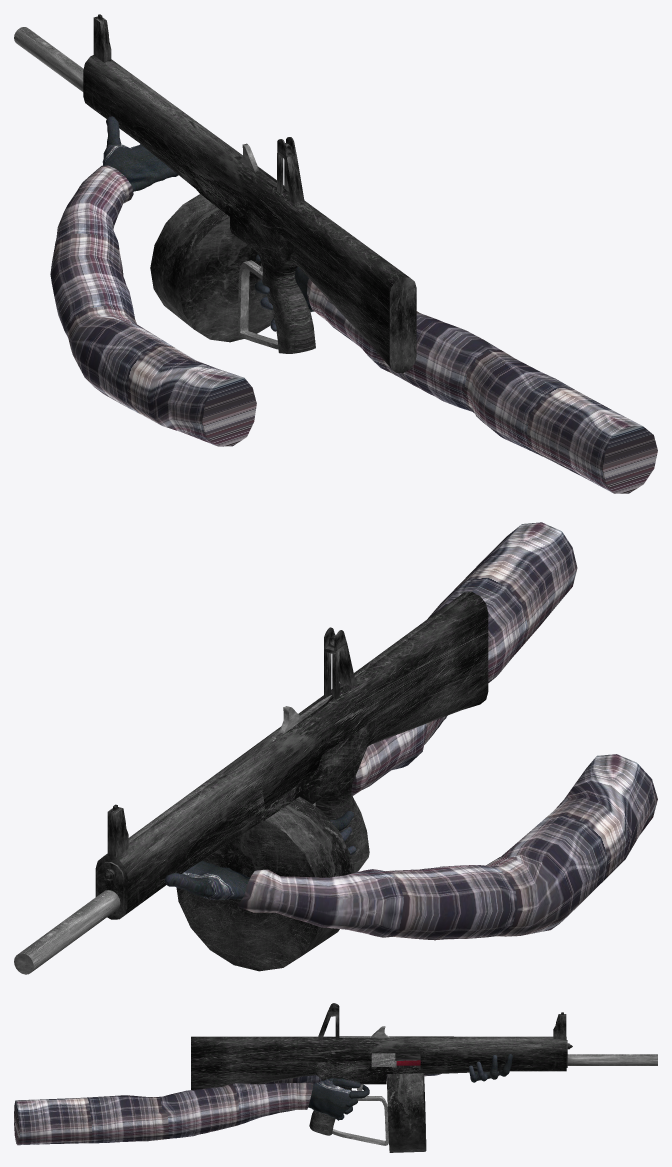
The model's file is aa12_vfire.fbx.
3 renders of one model, top to bottom at view 1: azimuth 30°, elevation 25°; view 2: azimuth 150°, elevation 25°; view 3: azimuth 270°, elevation 25°, orthographic. The views are drawn at different scales.
Visible parts, largest first — view 1: larm, aaa12_upperbody, rarm, aa12_drummagazine, aa12_lowerbody, lhand, aa12_barrel, aa12_wiregrip, aa12_rearsight, aa12_frontsight; view 2: larm, aaa12_upperbody, aa12_drummagazine, rarm, aa12_lowerbody, aa12_barrel, aa12_rearsight, lhand, aa12_frontsight, lthumb; view 3: aaa12_upperbody, rarm, aa12_drummagazine, aa12_lowerbody, rhand, aa12_barrel, aa12_wiregrip, aa12_bolt, aa12_rearsight, larm, aa12_frontsight.
Boxes of the visible parts, x1=… form: larm: x1=50, y1=165, x2=256, y2=446; aaa12_upperbody: x1=83, y1=55, x2=416, y2=373; rarm: x1=307, y1=279, x2=657, y2=493; aa12_drummagazine: x1=150, y1=194, x2=273, y2=342; aa12_lowerbody: x1=191, y1=183, x2=315, y2=353; lhand: x1=102, y1=144, x2=176, y2=191; aa12_barrel: x1=14, y1=27, x2=83, y2=91; aa12_wiregrip: x1=237, y1=260, x2=278, y2=349; aa12_rearsight: x1=277, y1=137, x2=304, y2=203; aa12_frontsight: x1=93, y1=14, x2=111, y2=62; larm: x1=237, y1=754, x2=657, y2=940; aaa12_upperbody: x1=95, y1=592, x2=488, y2=919; aa12_drummagazine: x1=176, y1=796, x2=354, y2=971; rarm: x1=351, y1=522, x2=577, y2=795; aa12_lowerbody: x1=252, y1=716, x2=379, y2=872; aa12_barrel: x1=14, y1=890, x2=120, y2=974; aa12_rearsight: x1=324, y1=627, x2=355, y2=699; lhand: x1=181, y1=860, x2=249, y2=899; aa12_frontsight: x1=107, y1=804, x2=128, y2=857; lthumb: x1=165, y1=872, x2=214, y2=896; aaa12_upperbody: x1=191, y1=1036, x2=567, y2=1089; rarm: x1=14, y1=1082, x2=313, y2=1145; aa12_drummagazine: x1=387, y1=1073, x2=426, y2=1152; aa12_lowerbody: x1=304, y1=1061, x2=435, y2=1135; rhand: x1=308, y1=1078, x2=351, y2=1119; aa12_barrel: x1=567, y1=1054, x2=657, y2=1065; aa12_wiregrip: x1=332, y1=1096, x2=388, y2=1145; aa12_bolt: x1=339, y1=1026, x2=395, y2=1067; aa12_rearsight: x1=318, y1=1003, x2=339, y2=1039; larm: x1=262, y1=1073, x2=441, y2=1084; aa12_frontsight: x1=553, y1=1012, x2=566, y2=1038.
Bounding box in the file's own units: 19.54 × 13.86 × 56.25.
